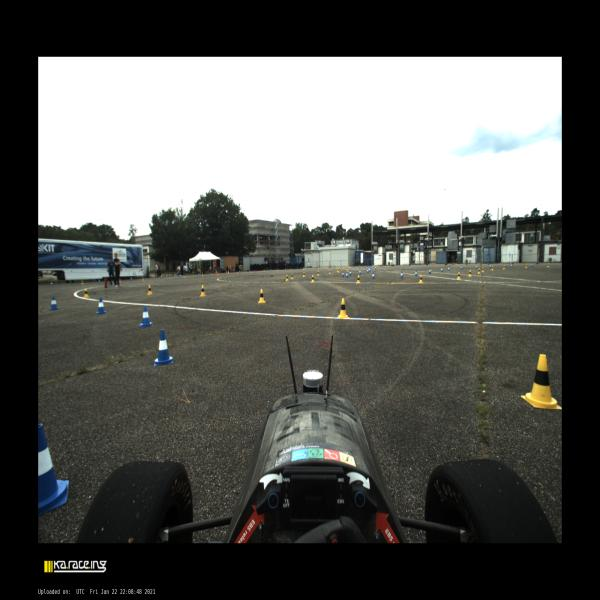blue_cone: (38, 422, 69, 518), (154, 329, 173, 366), (139, 305, 153, 327), (96, 298, 108, 314), (50, 296, 59, 310), (400, 271, 403, 278), (510, 262, 513, 268), (415, 270, 418, 276), (342, 271, 345, 277), (349, 270, 352, 276), (50, 281, 53, 286), (98, 278, 101, 283), (130, 276, 133, 281), (530, 262, 533, 267), (372, 272, 374, 279), (448, 266, 450, 272), (429, 268, 431, 274), (346, 272, 348, 278), (359, 269, 361, 275), (160, 274, 162, 279), (460, 265, 462, 270), (441, 267, 443, 272), (367, 268, 369, 273), (198, 272, 200, 276), (489, 264, 491, 268), (476, 265, 478, 269), (179, 274, 181, 278), (270, 268, 272, 272), (225, 271, 227, 274), (375, 266, 376, 270), (300, 268, 302, 270), (239, 270, 240, 273), (285, 268, 286, 271), (254, 270, 255, 272)
large_orange_cone: (216, 270, 217, 274), (228, 270, 229, 274)
yellow_cone: (520, 354, 562, 410), (338, 298, 348, 318), (258, 289, 266, 303), (199, 284, 206, 297), (83, 288, 90, 298), (147, 285, 153, 295), (419, 274, 423, 284), (457, 272, 461, 280), (311, 275, 315, 283), (285, 274, 289, 282), (468, 270, 472, 277), (357, 276, 360, 284), (290, 273, 294, 279), (81, 279, 84, 285), (491, 265, 494, 271), (317, 270, 320, 276), (547, 263, 550, 268), (525, 264, 528, 268), (503, 264, 505, 270), (482, 267, 484, 273), (478, 268, 480, 274), (329, 269, 331, 275), (142, 276, 144, 281), (303, 272, 305, 277), (184, 274, 186, 278), (237, 270, 239, 274), (250, 270, 252, 274), (202, 273, 204, 276), (217, 272, 219, 275), (263, 270, 265, 272), (278, 268, 279, 272), (290, 268, 292, 270), (120, 279, 121, 282), (303, 268, 304, 270)
